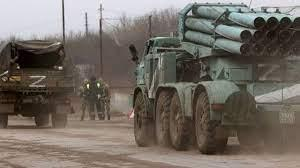person: (100, 78, 114, 120), (90, 76, 102, 123), (79, 76, 90, 126)
rszo: (130, 3, 300, 155)
truck: (0, 35, 76, 130)
